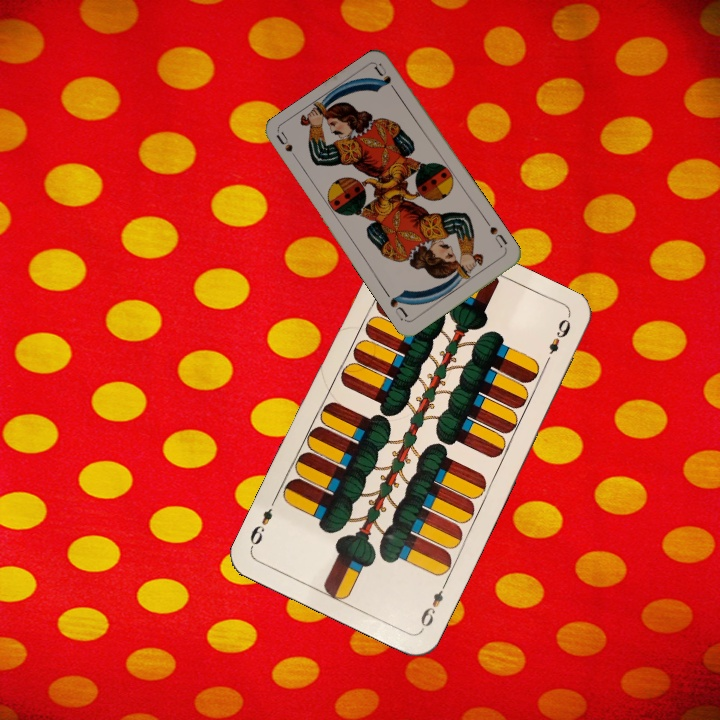E9: (416, 577, 450, 633)
SU: (273, 129, 302, 166), (486, 222, 510, 254)
